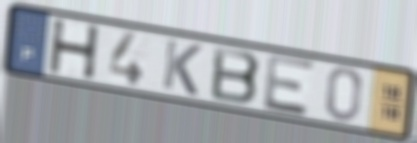0: (323, 65, 365, 124)
4: (107, 29, 145, 90)
B: (208, 43, 264, 107)
E: (262, 51, 318, 119)
H: (48, 18, 103, 82)
K: (159, 36, 205, 99)
